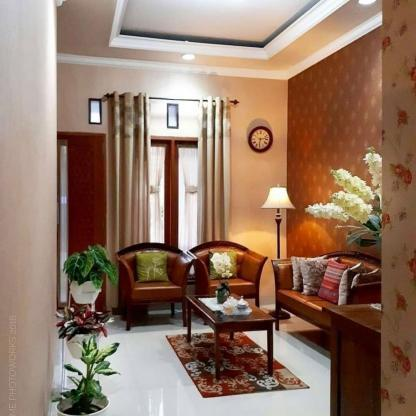bantal: (135, 252, 169, 281), (210, 249, 241, 280), (319, 261, 341, 302)
jam dinding: (246, 122, 275, 154)
kursi: (186, 241, 265, 316), (116, 243, 186, 325)
lampu: (263, 185, 293, 260)
meja: (184, 292, 281, 380)
sova: (267, 253, 384, 316)
tanaman: (59, 335, 113, 415), (64, 244, 107, 304), (62, 308, 103, 356)
